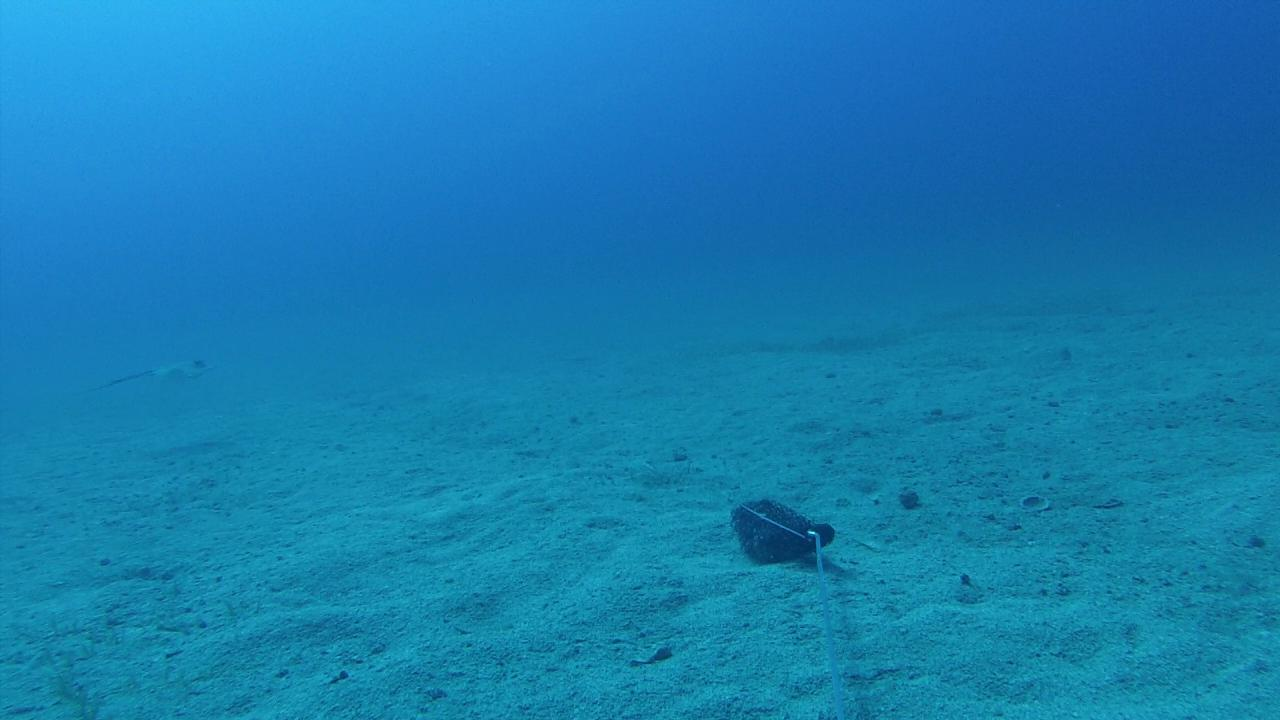dasyatis: (88, 353, 216, 394)
